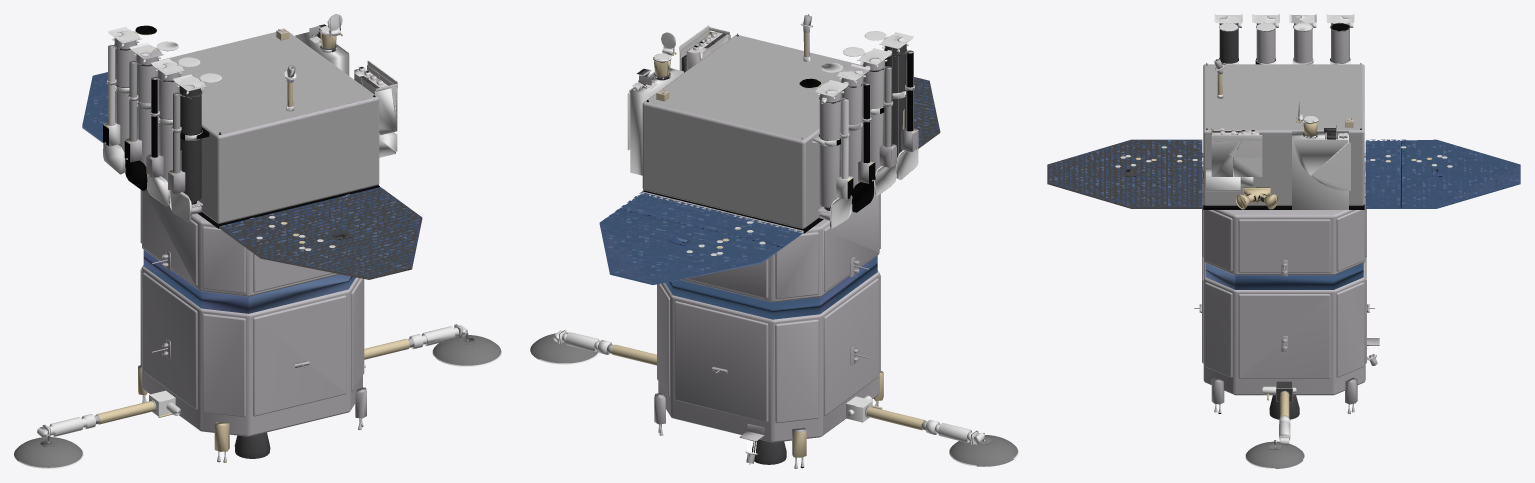
Rendered from sdo.glb.
3 views of the same model, side by side, from view 1: azimuth 30°, elevation 25°; view 2: azimuth 150°, elevation 25°; view 3: azimuth 270°, elevation 25° (orthographic). The views are drawn at different scales.
Visible parts, largest first — view 1: Fake; view 2: Fake; view 3: Fake.
Part boxes in pixels (<box>): Fake: <box>14,14,501,468</box>; Fake: <box>530,14,1018,468</box>; Fake: <box>1047,14,1520,468</box>.
Bounding box in the file's own units: 37.02 × 30.75 × 37.03.
